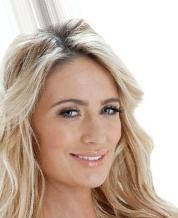face: (57, 97, 119, 169)
